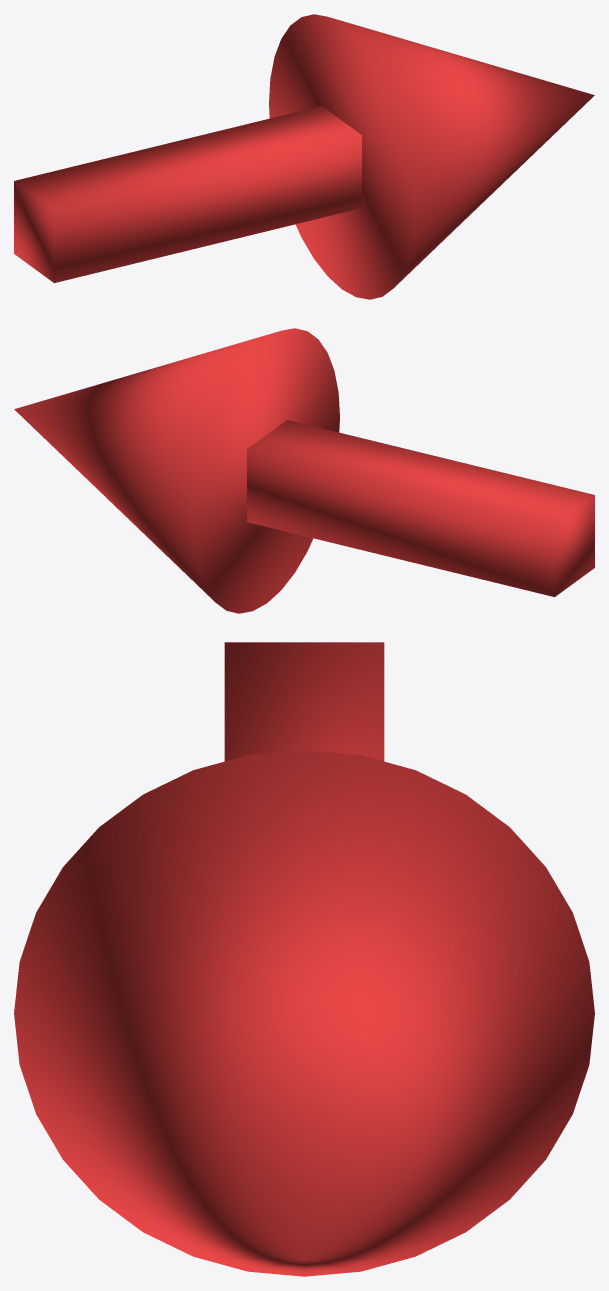
The model's file is arrow.glb.
The picture shows the model from 3 angles, top to bottom: view 1: azimuth 30°, elevation 25°; view 2: azimuth 150°, elevation 25°; view 3: azimuth 270°, elevation 25°; orthographic projection. The views are drawn at different scales.
Parts seen in each view (by area): view 1: 円錐; view 2: 円錐; view 3: 円錐.
Boxes of the visible parts, bbox=[...] form: 円錐: bbox=[14, 14, 594, 299]; 円錐: bbox=[14, 328, 594, 613]; 円錐: bbox=[14, 642, 594, 1276].
Size of the model in its own units: 4.43 by 2 by 2.
